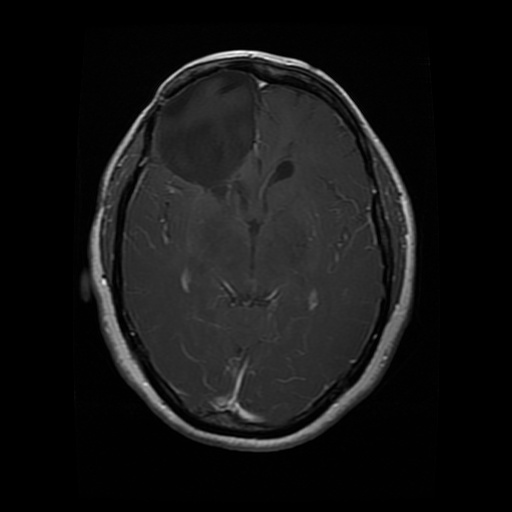glioma: (154, 68, 265, 211)
